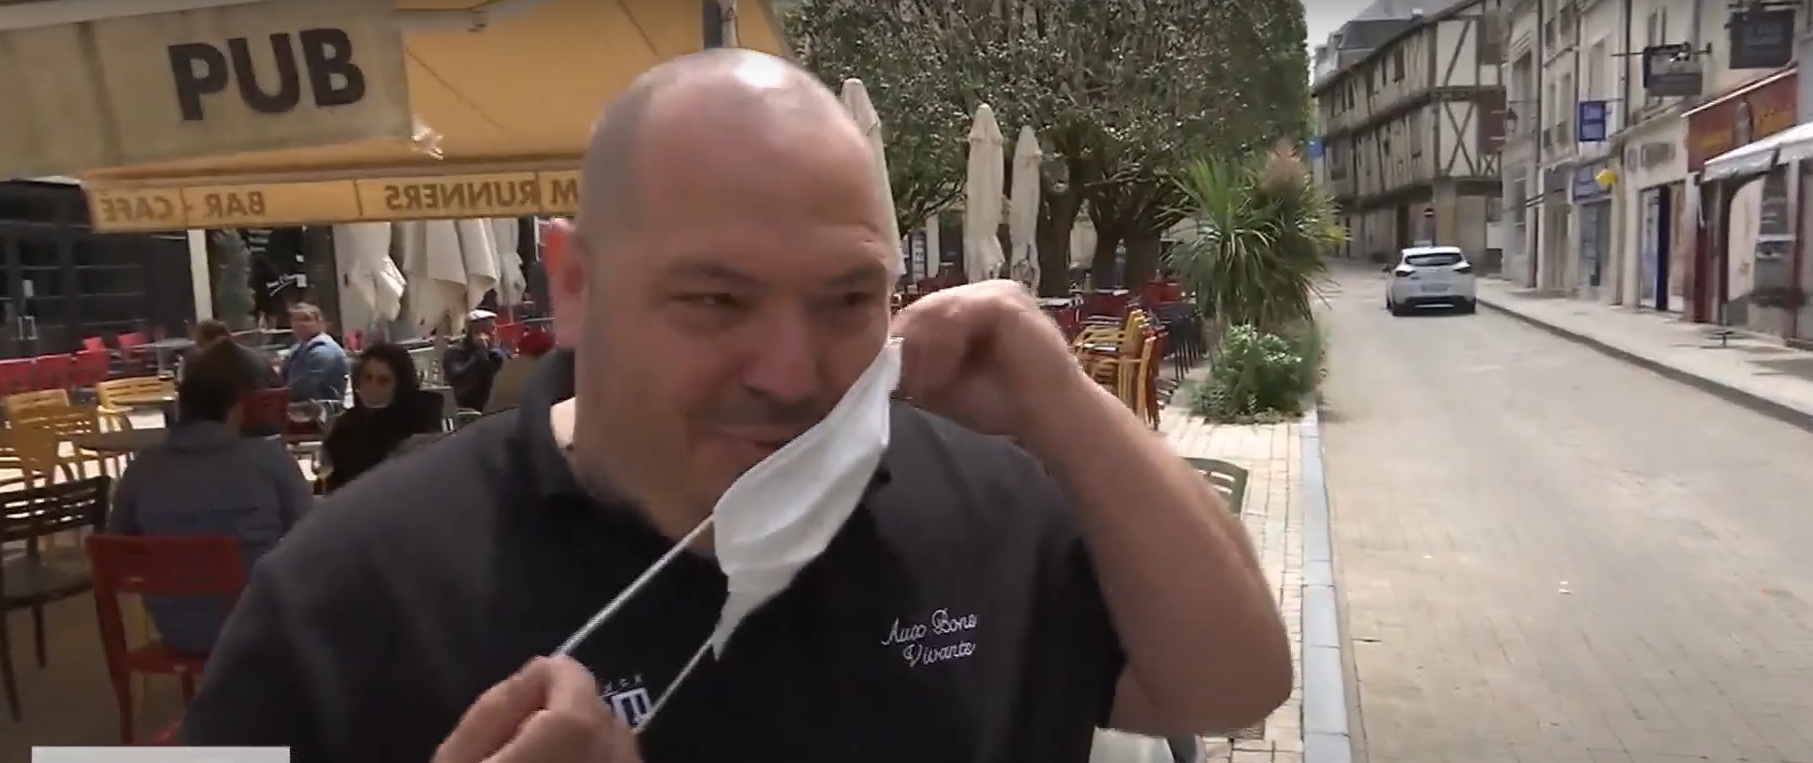with_incorrect_mask: (581, 159, 885, 517)
